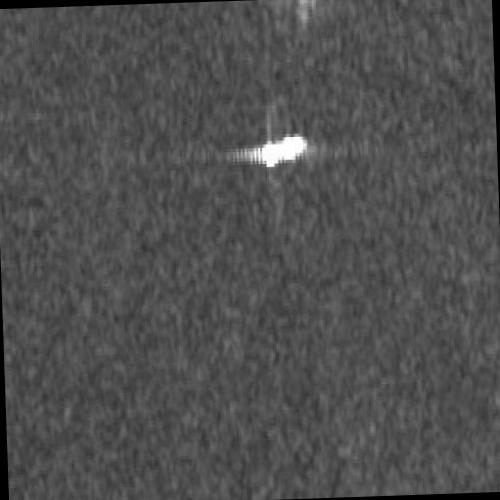ship: (252, 133, 308, 168)
